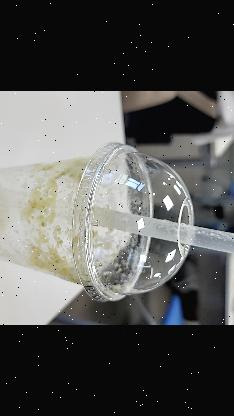Others: (0, 135, 202, 296), (73, 138, 195, 304), (85, 207, 234, 252)
